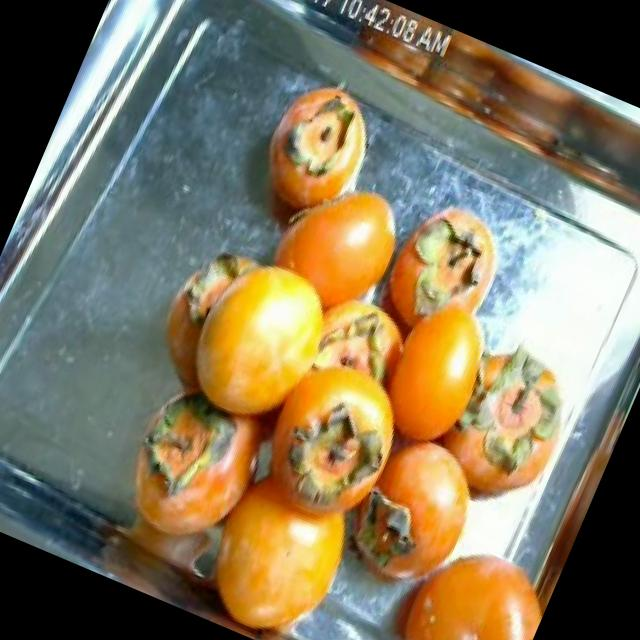Fruit: (238, 143, 425, 350), (244, 58, 399, 217), (378, 186, 530, 348)
